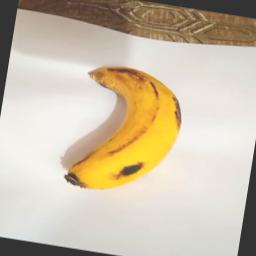Banana Unripe: (58, 60, 188, 210)
